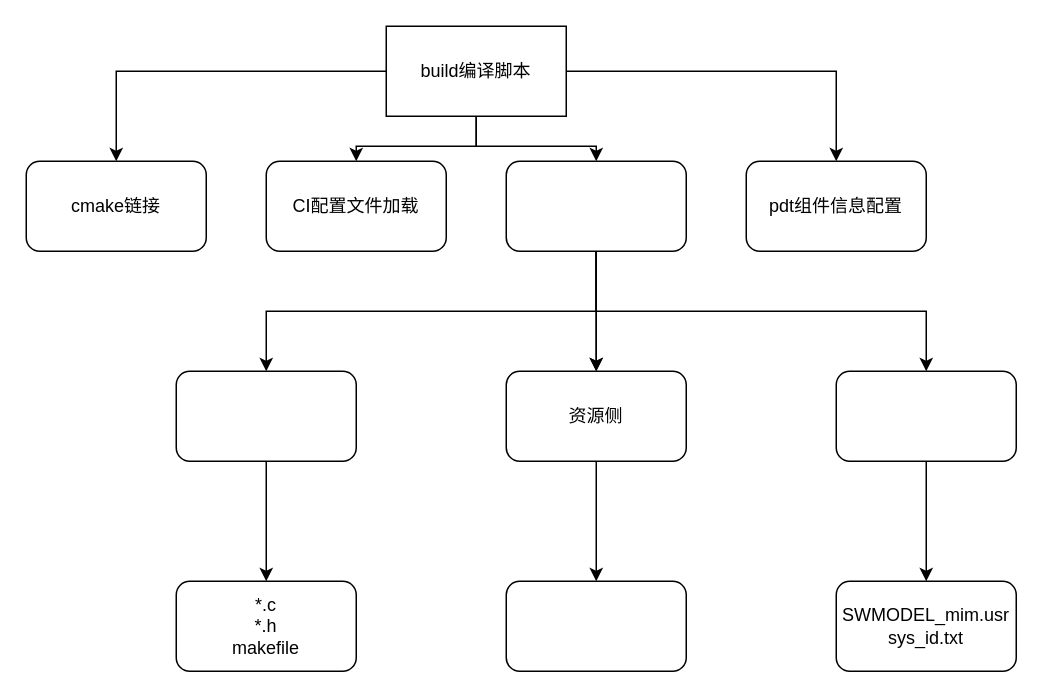
The diagram is 1043 pixels wide and 698 high, and some of its shapes have lost their labels. Here are the shapes that lost their labels. From the top down, the centre of each, then its label:
At pixel 595 205: "src组件核心".
At pixel 265 415: "组件侧".
At pixel 925 415: "组件注册信息".
At pixel 595 625: "mim.xml cmd.xml cid.txt".
